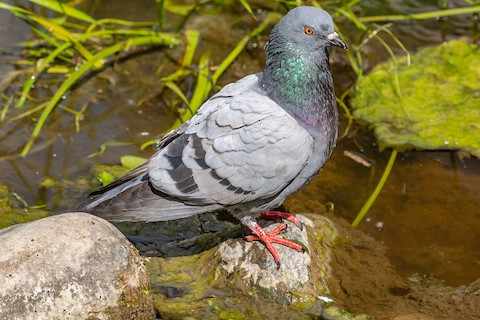pigeon: (54, 5, 354, 275)
